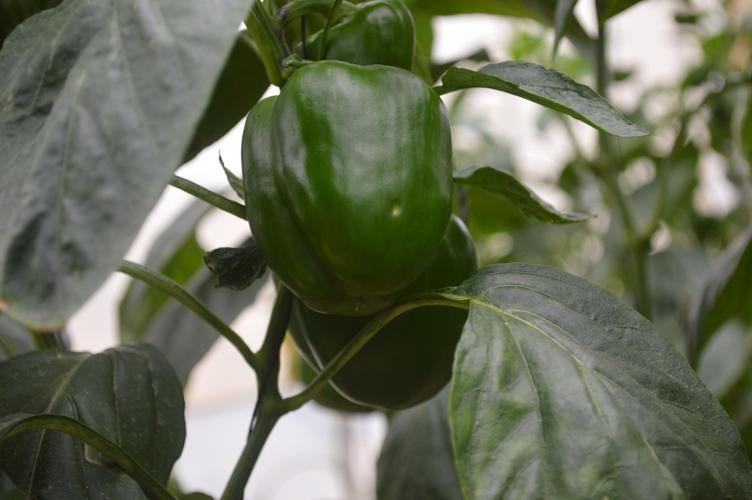BellPepper: (241, 55, 449, 300), (256, 245, 478, 410)
